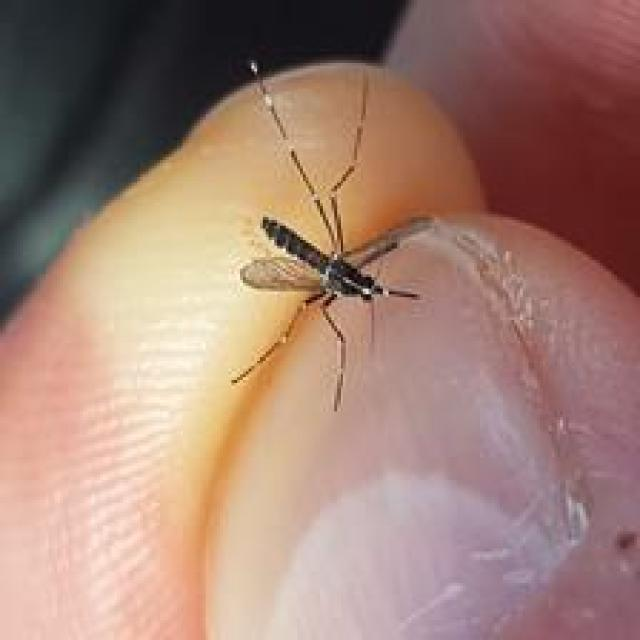Aedes albopictus: (227, 57, 436, 412)
